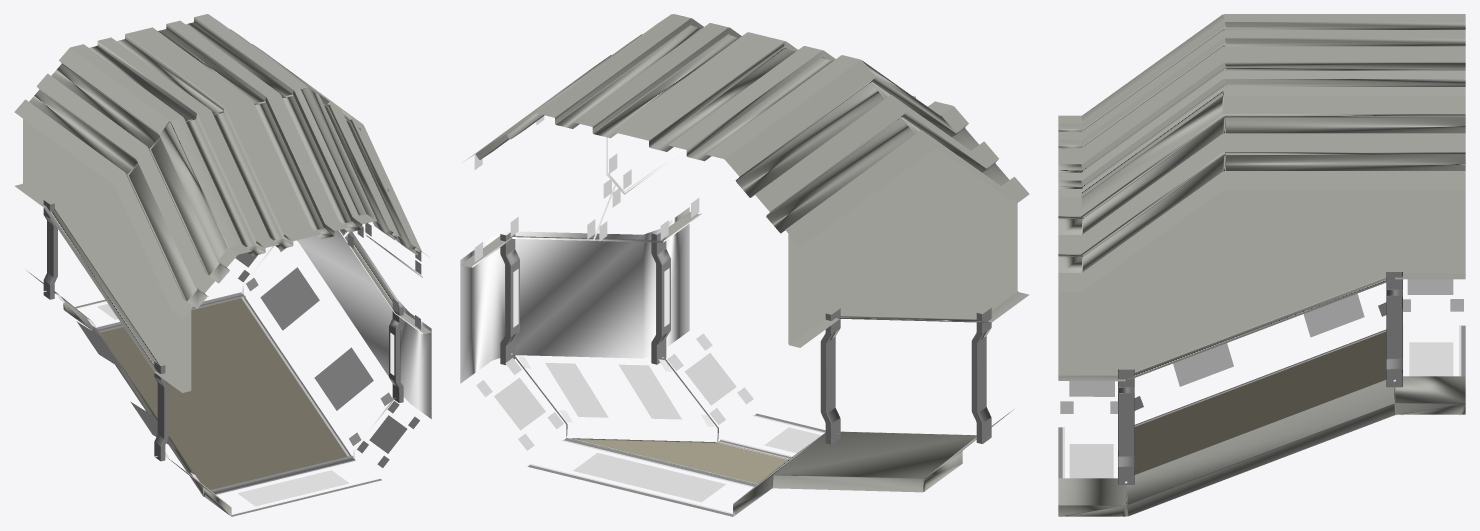
File: vent_ramp005_02x02x02_c.glb
3 renders of one model, left to right at view 1: azimuth 30°, elevation 25°; view 2: azimuth 150°, elevation 25°; view 3: azimuth 270°, elevation 25°, orthographic. The views are drawn at different scales.
Size of the model in its own units: 1.55 by 2.05 by 1.81.
